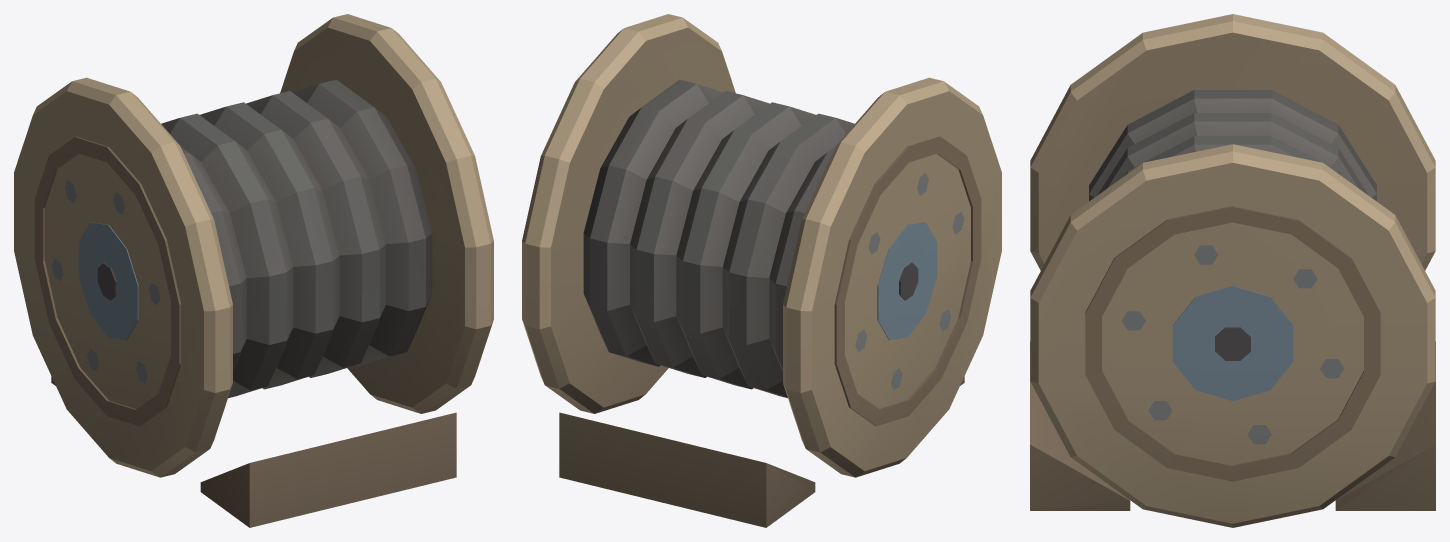
The model's file is spool.glb.
3 renders of one model, left to right at view 1: azimuth 30°, elevation 25°; view 2: azimuth 150°, elevation 25°; view 3: azimuth 270°, elevation 25°, orthographic. The views are drawn at different scales.
Size of the model in its own units: 1.43 by 1.7 by 1.66.
